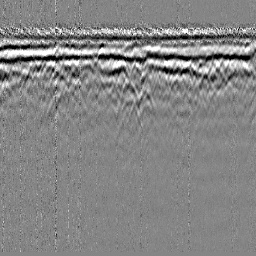cavity: (117, 75, 140, 117)
